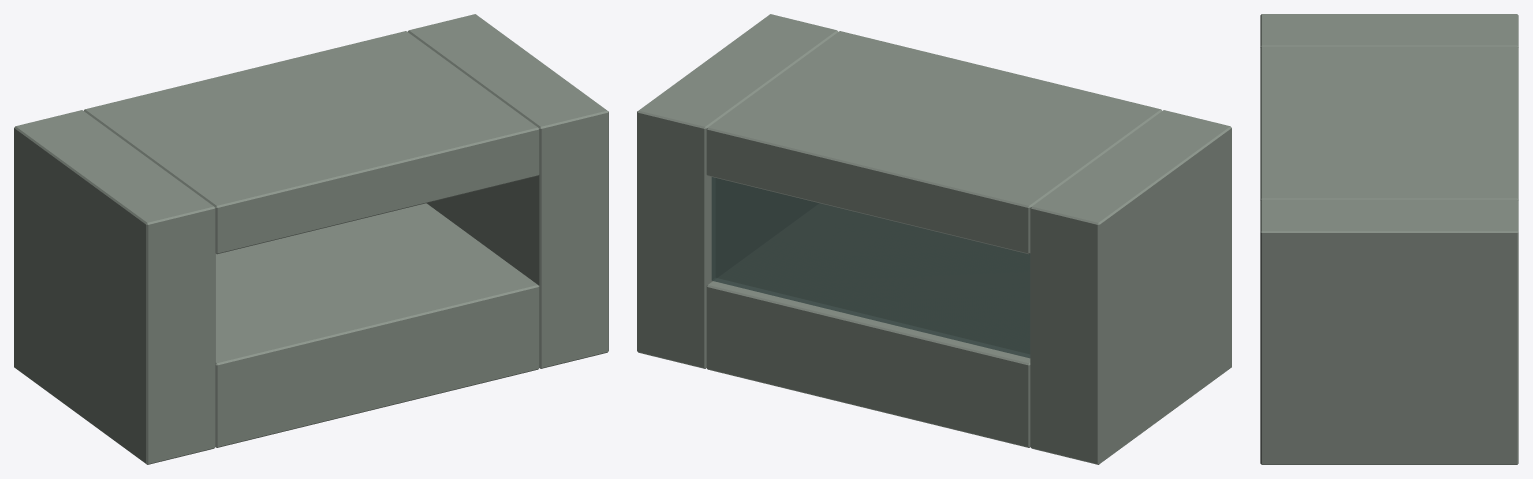
File: MILL_CLERESTORY_LODs.fbx
The picture shows the model from 3 angles, left to right: view 1: azimuth 30°, elevation 25°; view 2: azimuth 150°, elevation 25°; view 3: azimuth 270°, elevation 25°; orthographic projection. The views are drawn at different scales.
Parts seen in each view (by area): view 1: MILL_CLERESTORY_LOD0; view 2: MILL_CLERESTORY_LOD0; view 3: MILL_CLERESTORY_LOD0.
Part boxes in pixels (left/top/right/bottom): MILL_CLERESTORY_LOD0: left=14, top=14, right=608, bottom=464; MILL_CLERESTORY_LOD0: left=637, top=14, right=1231, bottom=464; MILL_CLERESTORY_LOD0: left=1260, top=14, right=1518, bottom=464.
Size of what is drawn, in the model's own units: 4 by 2 by 2.
